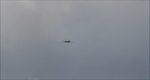maybay_muctieu: (63, 37, 73, 44)
